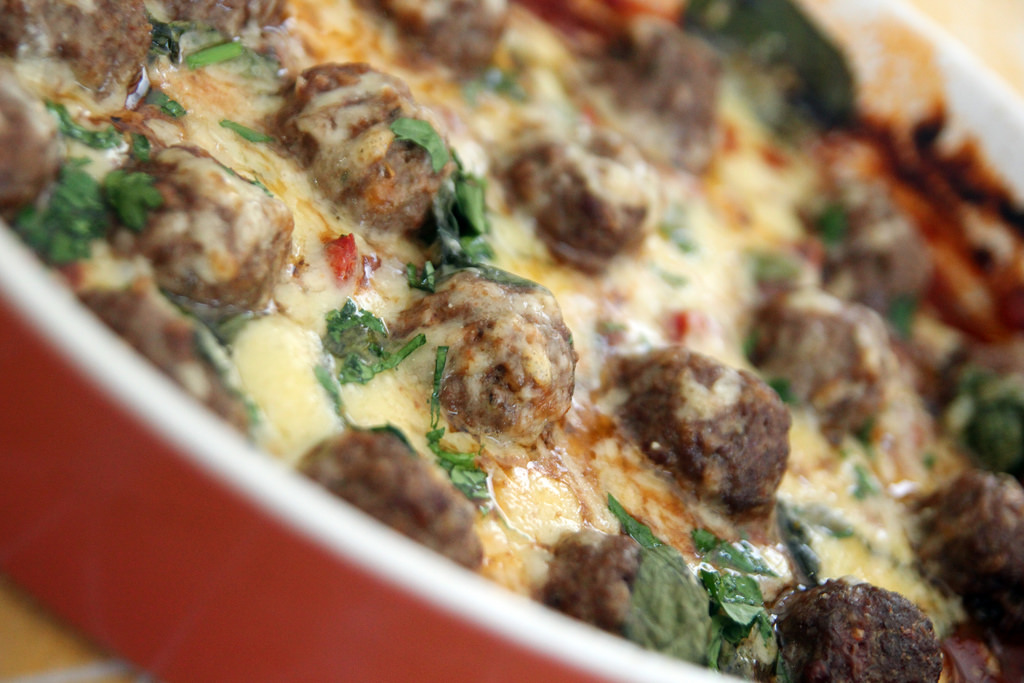meatballs: (603, 328, 800, 534), (107, 132, 297, 338), (299, 402, 508, 589), (393, 245, 579, 446), (282, 59, 473, 239), (767, 576, 939, 683), (916, 454, 1024, 605)
